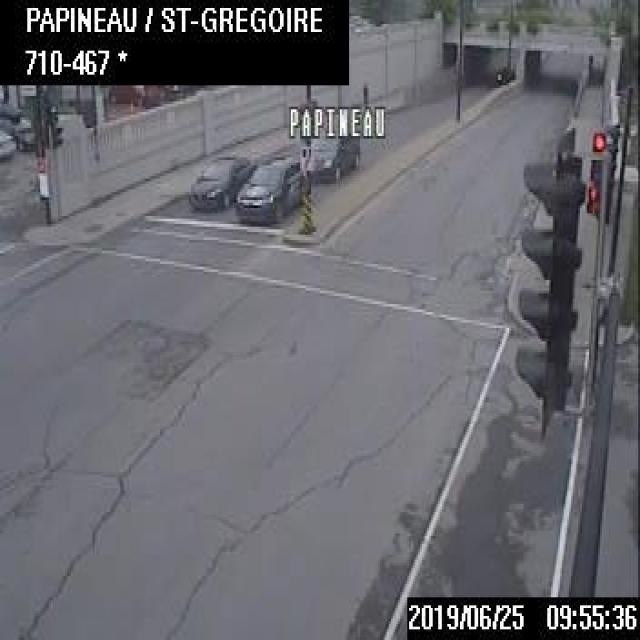vehicle: (234, 155, 311, 227), (185, 146, 256, 211), (304, 124, 362, 184), (0, 128, 15, 160)
